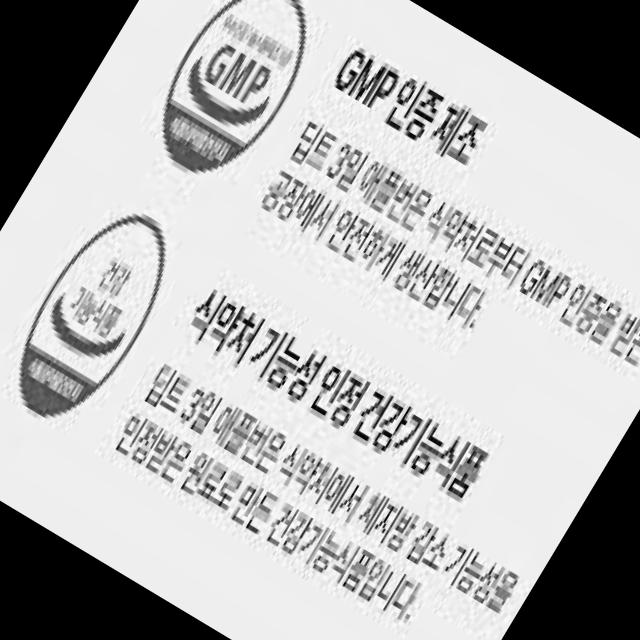GMP: (132, 0, 338, 197)
HEALTHY: (0, 184, 199, 438)
